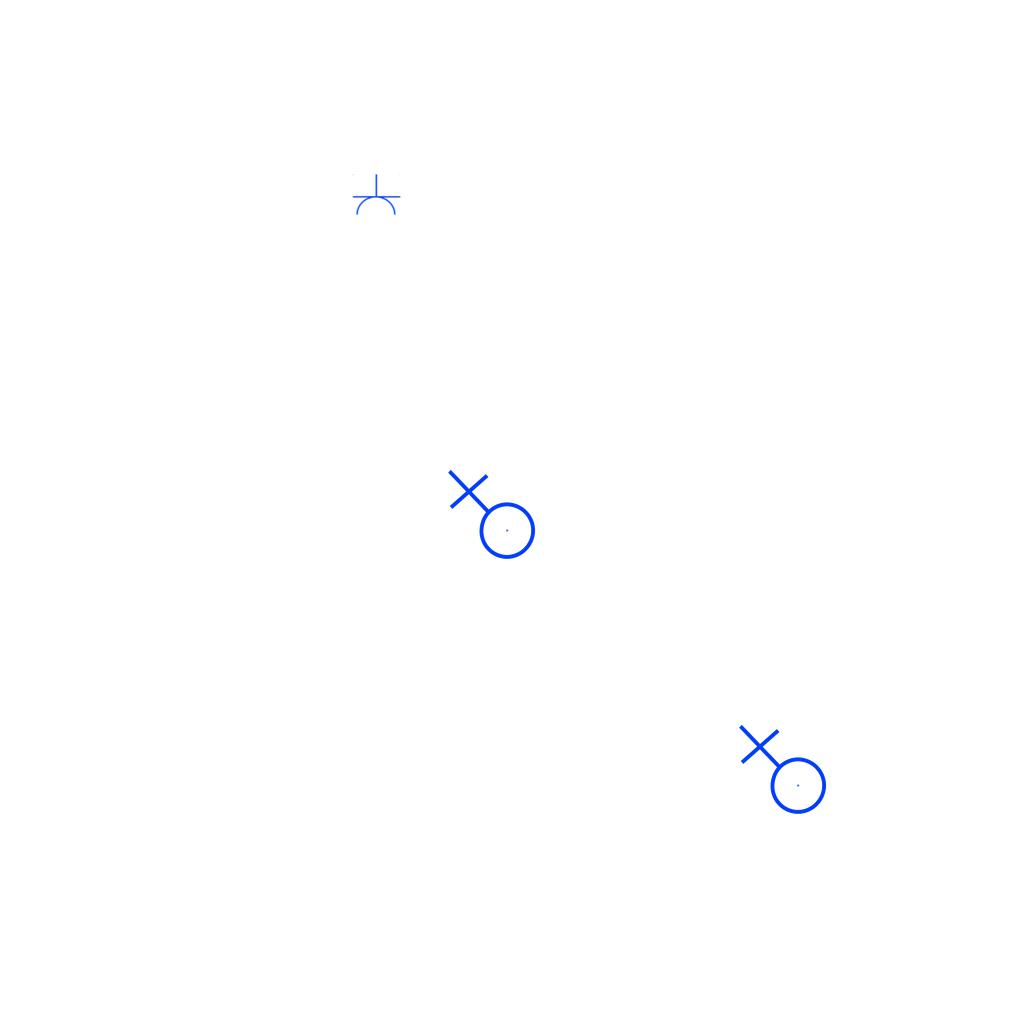Elektroanschluss_allgemein_230V_Geraeteanschlussdose_230V: (443, 469, 537, 568), (734, 724, 828, 823)
Schukosteckdose_einfach: (351, 174, 401, 217)
